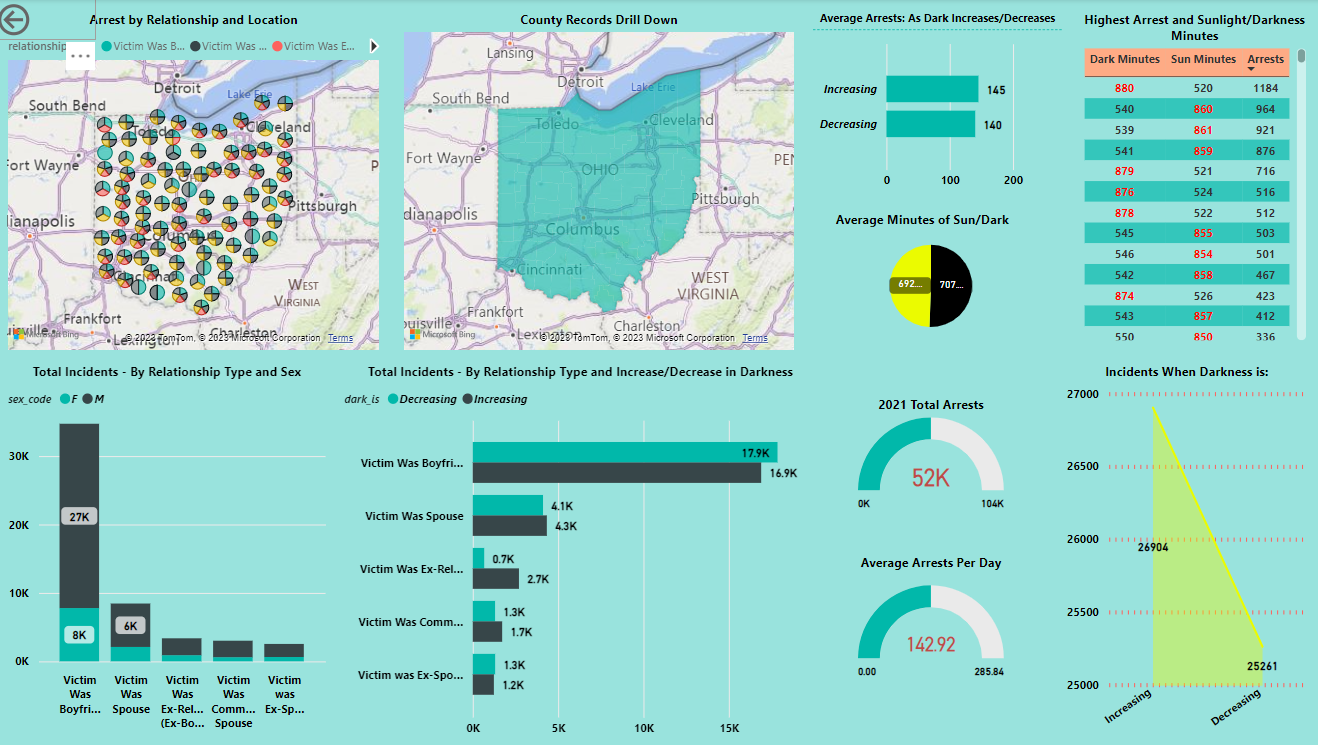

Layout of this report page (visuals, bound fields, positions):
{"tool":"powerbi","page":{"name":"Page 1","canvas":[1280,720],"ordinal":0},"visuals":[{"type":"map","title":"Arrest by Relationship and Location","fields":{"Y":["public lat_lon.latitude"],"X":["public lat_lon.longitude"],"Series":["public crime_data.relationship_name"]},"box":[9.8,10.6,368,332.5],"z":0},{"type":"lineStackedColumnComboChart","title":"Total Incidents - By Relationship Type and Sex","fields":{"Category":["public crime_data.relationship_name"],"Y":["public crime_data.total_incidents"],"Series":["public crime_data.sex_code"]},"box":[9.8,351.1,316.6,361.8],"z":1000},{"type":"stackedAreaChart","title":"Incidents When Darkness is:","fields":{"Category":["public dark.dark_is"],"Y":["public crime_data.total_incidents"]},"box":[1031.2,351.1,241.2,361.8],"z":2000},{"type":"actionButton","box":[0,0,100,40],"z":3000},{"type":"filledMap","title":"County Records Drill Down","fields":{"Category":["public lat_lon.county_name"],"Y":["Min(public lat_lon.latitude)"],"X":["Min(public lat_lon.longitude)"]},"box":[391.9,10.6,385.7,332.5],"z":4000},{"type":"gauge","title":"2021 Total Arrests","fields":{"Y":["public crime_data.total_incidents"]},"box":[829.2,382.2,150.7,117.9],"z":5000},{"type":"clusteredBarChart","title":"Total Incidents - By Relationship Type and Increase/Decrease in Darkness","fields":{"Category":["public crime_data.relationship_name"],"Y":["public crime_data.total_incidents"],"Series":["public dark.dark_is"]},"box":[334.3,351.1,465.5,368.9],"z":6000},{"type":"pieChart","title":"Average Minutes of Sun/Dark","fields":{"Y":["Avg(public dark.minutes_of_darkness)","Avg(public dark.minutes_of_sun)"]},"box":[808.6,203.8,194.2,130.3],"z":7000},{"type":"clusteredBarChart","title":"Average Arrests: As Dark Increases/Decreases","fields":{"Category":["public dark.dark_is"],"Y":["public crime_data.avg_incidents"]},"box":[790.9,10.6,240.3,180],"z":8000},{"type":"tableEx","title":"Highest Arrest and Sunlight/Darkness Minutes","fields":{"Values":["public dark.minutes_of_darkness","public crime_data.minutes_of_sunlight","public crime_data.total_incidents"]},"box":[1047.2,10.6,225.2,323.6],"z":9000},{"type":"gauge","title":"Average Arrests Per Day","fields":{"Y":["public crime_data.avg_incidents"]},"box":[829.2,535.6,150.7,135.7],"z":10000}]}

Visuals, with their boxes in screenshot pixels (x1, y1, x2, y2), scaled from the page's 1280x720 canvas onto the 1318x745 screenshot:
"Arrest by Relationship and Location" map: (10, 11, 389, 355)
"Total Incidents - By Relationship Type and Sex" lineStackedColumnComboChart: (10, 363, 336, 738)
"Incidents When Darkness is:" stackedAreaChart: (1062, 363, 1310, 738)
actionButton: (0, 0, 103, 41)
"County Records Drill Down" filledMap: (404, 11, 801, 355)
"2021 Total Arrests" gauge: (854, 395, 1009, 517)
"Total Incidents - By Relationship Type and Increase/Decrease in Darkness" clusteredBarChart: (344, 363, 824, 744)
"Average Minutes of Sun/Dark" pieChart: (833, 211, 1033, 346)
"Average Arrests: As Dark Increases/Decreases" clusteredBarChart: (814, 11, 1062, 197)
"Highest Arrest and Sunlight/Darkness Minutes" tableEx: (1078, 11, 1310, 346)
"Average Arrests Per Day" gauge: (854, 554, 1009, 695)
